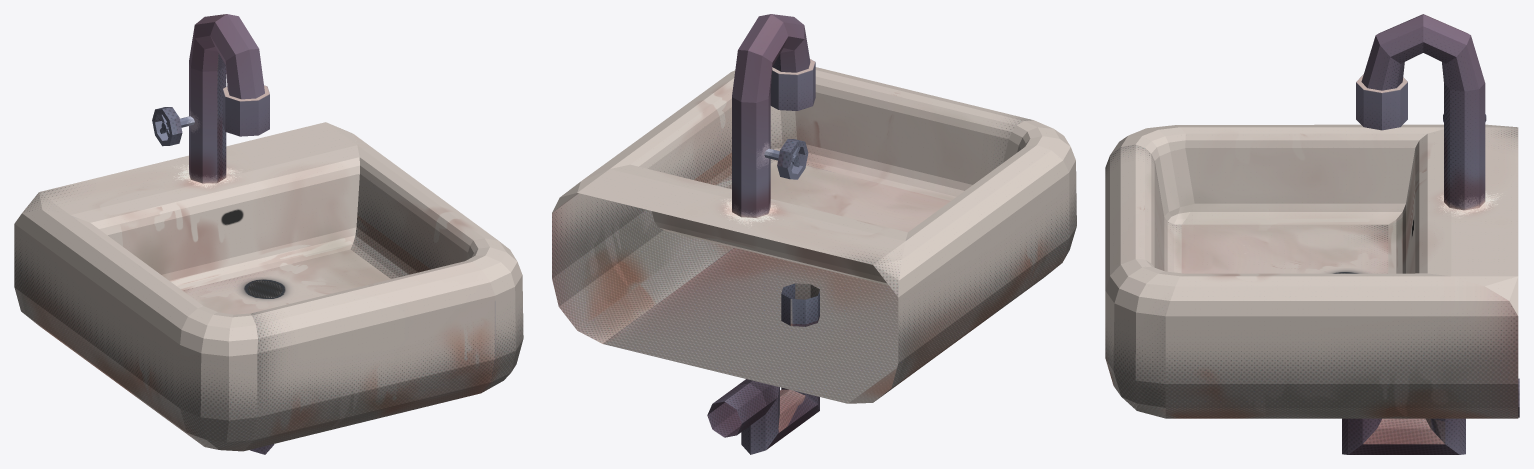
Rendered from Bath_sink.obj.
The picture shows the model from 3 angles, left to right: view 1: azimuth 30°, elevation 25°; view 2: azimuth 150°, elevation 25°; view 3: azimuth 270°, elevation 25°; orthographic projection. The views are drawn at different scales.
Parts seen in each view (by area): view 1: Bath_Sink; view 2: Bath_Sink; view 3: Bath_Sink.
Part boxes in pixels (left/top/right/bottom): Bath_Sink: left=14, top=14, right=523, bottom=454; Bath_Sink: left=552, top=14, right=1076, bottom=454; Bath_Sink: left=1105, top=14, right=1519, bottom=454.
Size of the model in its own units: 1 by 1.18 by 1.
